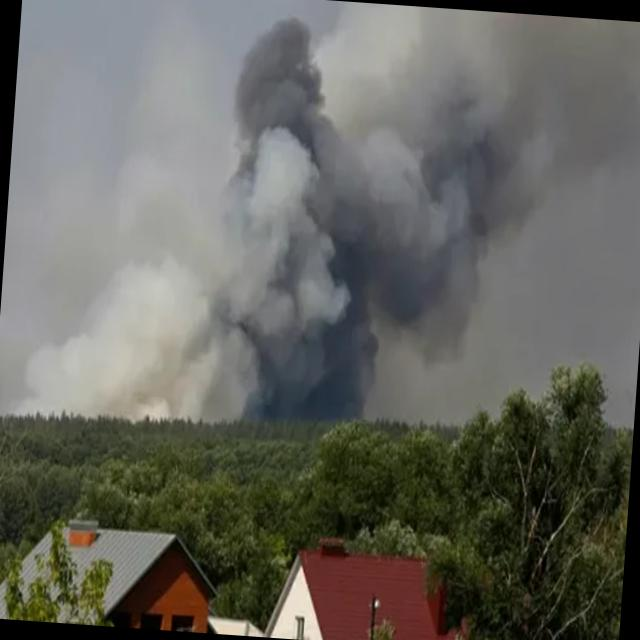Smoke: (186, 11, 532, 427)
